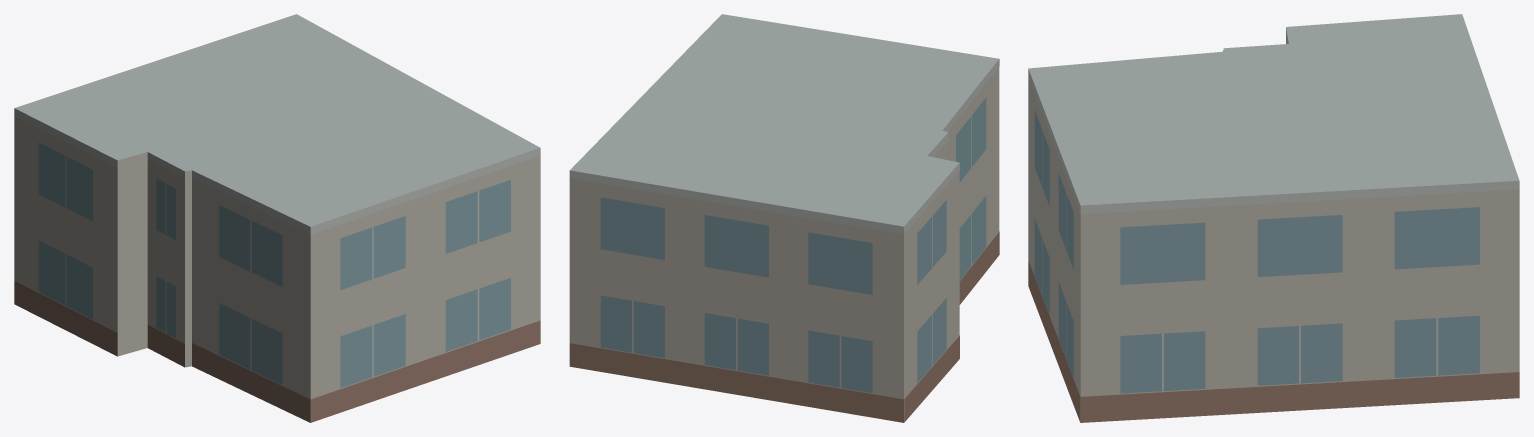
The model's file is survey-upis-32702884.glb.
3 renders of one model, left to right at view 1: azimuth 30°, elevation 25°; view 2: azimuth 150°, elevation 25°; view 3: azimuth 270°, elevation 25°, orthographic. The views are drawn at different scales.
Visible parts, largest first — view 1: survey-upis-32702884.tmp; view 2: survey-upis-32702884.tmp; view 3: survey-upis-32702884.tmp.
Part boxes in pixels (x1=…): survey-upis-32702884.tmp: x1=14, y1=14, x2=540, y2=422; survey-upis-32702884.tmp: x1=569, y1=14, x2=999, y2=422; survey-upis-32702884.tmp: x1=1028, y1=14, x2=1519, y2=422.
Size of the model in its own units: 11.54 by 6.1 by 12.51.
